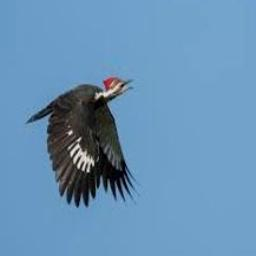Woodpecker: (26, 76, 140, 209)
